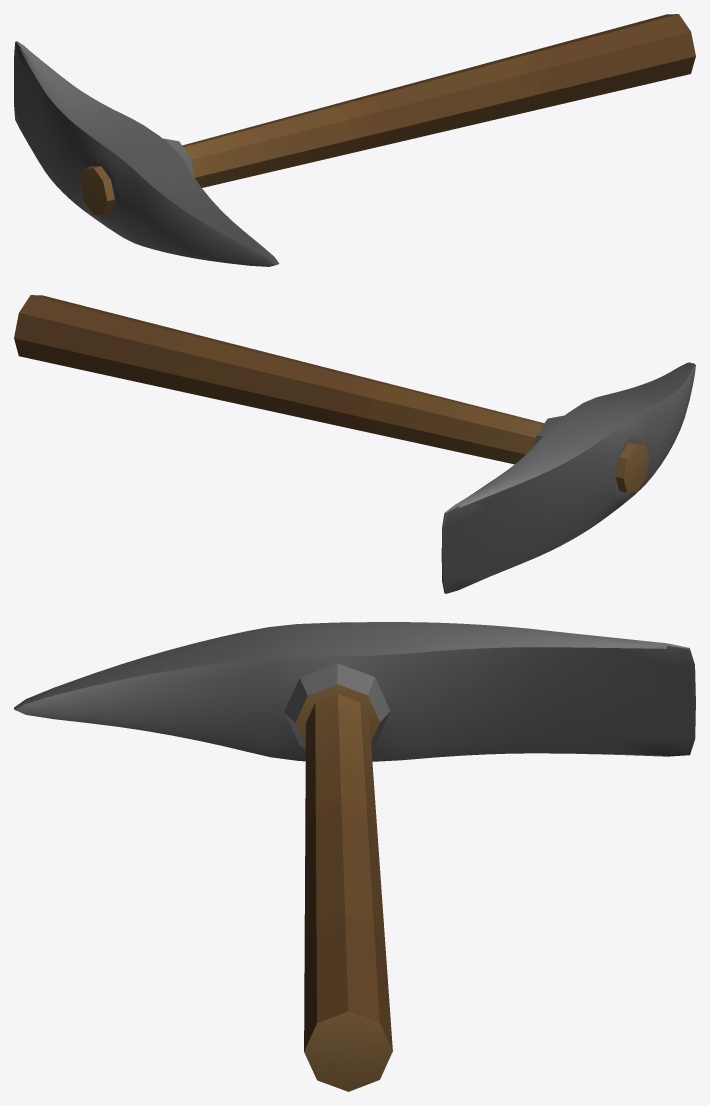
The model's file is pack05_pickAxe.fbx.
The picture shows the model from 3 angles, top to bottom: view 1: azimuth 30°, elevation 25°; view 2: azimuth 150°, elevation 25°; view 3: azimuth 270°, elevation 25°; orthographic projection. The views are drawn at different scales.
Visible parts, largest first — view 1: Cube; view 2: Cube; view 3: Cube.
Part boxes in pixels (left/top/right/bottom): Cube: left=14, top=14, right=695, bottom=266; Cube: left=14, top=295, right=695, bottom=593; Cube: left=14, top=622, right=695, bottom=1091.
Size of the model in its own units: 739 by 99.34 by 551.
Materials: 1 (1 with a texture image).
